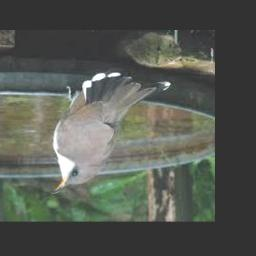Cuckoo: (49, 73, 171, 195)
